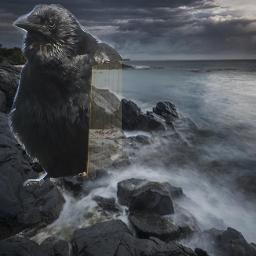Crow: (6, 3, 122, 186)
